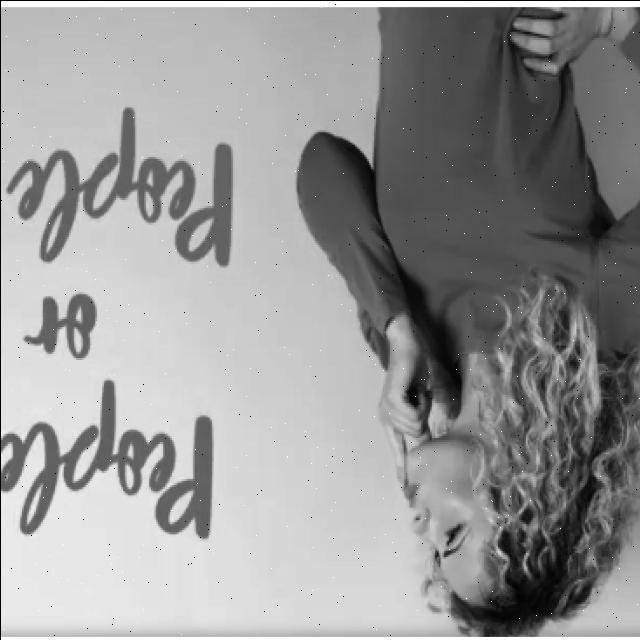face_no_mask: (396, 436, 501, 608)
